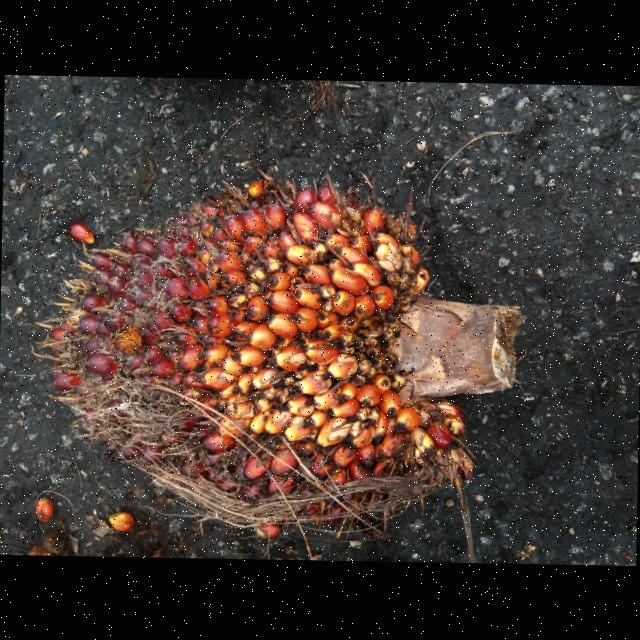Ripe: (37, 177, 475, 537)
